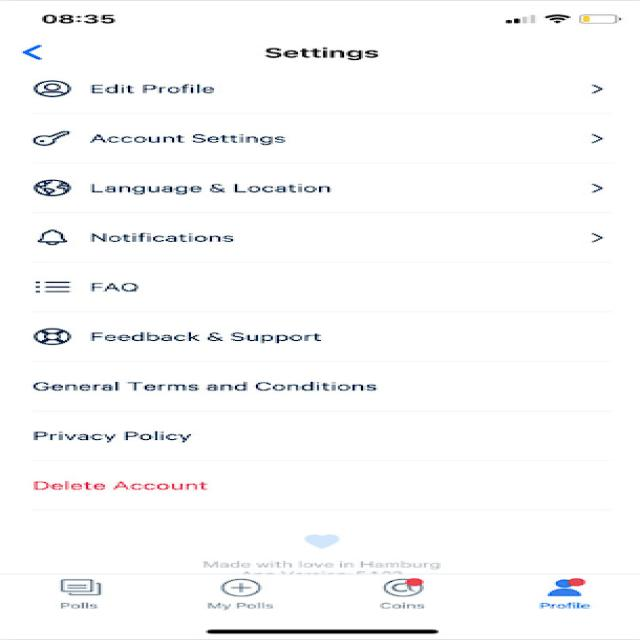icon button: (192, 566, 296, 615), (37, 566, 123, 616), (366, 568, 452, 612), (532, 570, 612, 613), (4, 36, 70, 66)
row: (0, 156, 640, 210), (2, 258, 640, 311), (0, 410, 640, 461), (0, 207, 640, 257), (0, 462, 640, 512), (2, 312, 640, 361), (0, 113, 640, 159), (0, 67, 640, 112), (0, 364, 640, 409)
